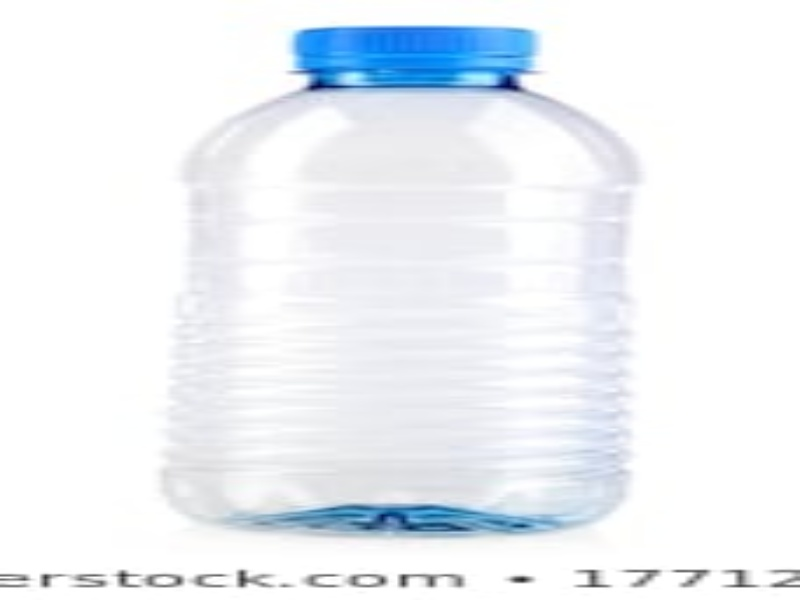plastic-bottle: (166, 13, 656, 537)
